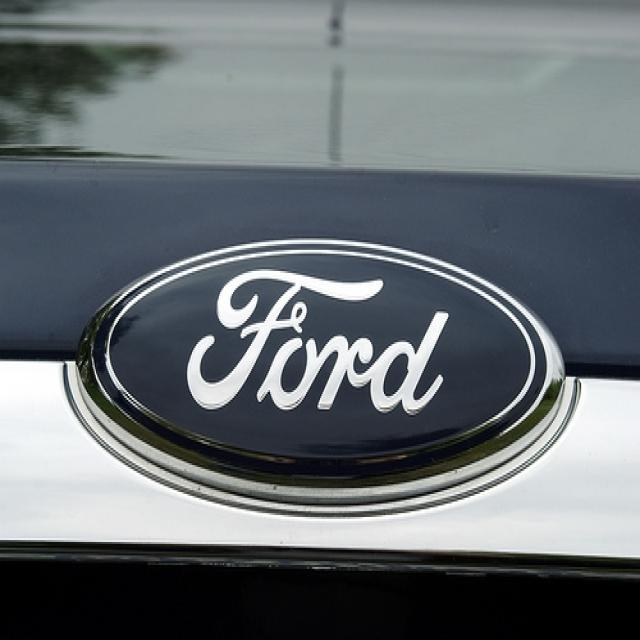ford: (97, 247, 546, 468)
